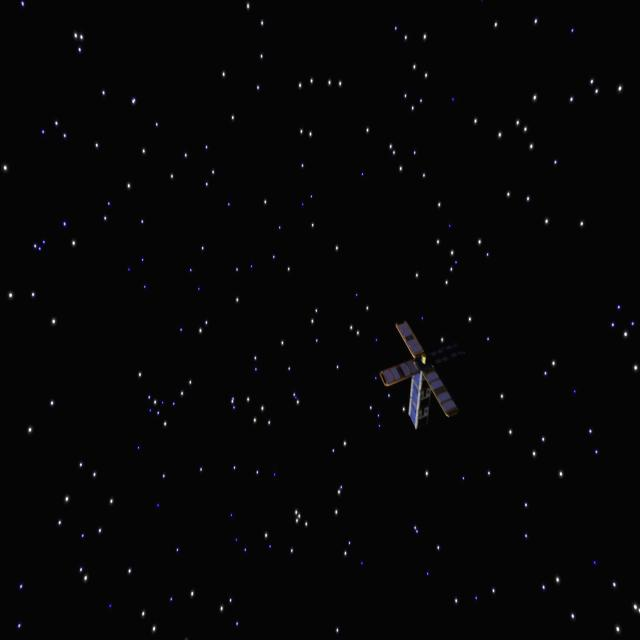satellite: (374, 322, 466, 433)
